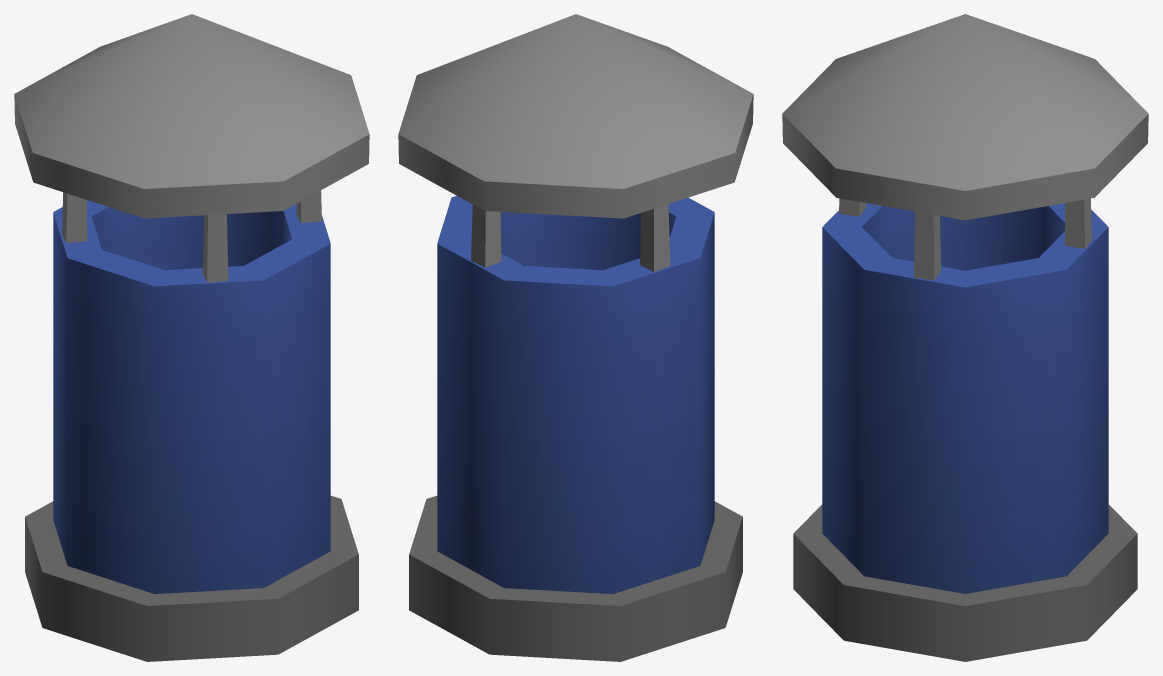
Rendered from Chimney_1_D_3.fbx.
3 views of the same model, side by side, from view 1: azimuth 30°, elevation 25°; view 2: azimuth 150°, elevation 25°; view 3: azimuth 270°, elevation 25° (orthographic).
Visible parts, largest first — view 1: Chimney_1_D_3; view 2: Chimney_1_D_3; view 3: Chimney_1_D_3.
Boxes of the visible parts, bbox=[...] form: Chimney_1_D_3: bbox=[14, 14, 369, 661]; Chimney_1_D_3: bbox=[398, 14, 753, 661]; Chimney_1_D_3: bbox=[782, 14, 1148, 661].
Size of the model in its own units: 65.76 by 114 by 65.76.
